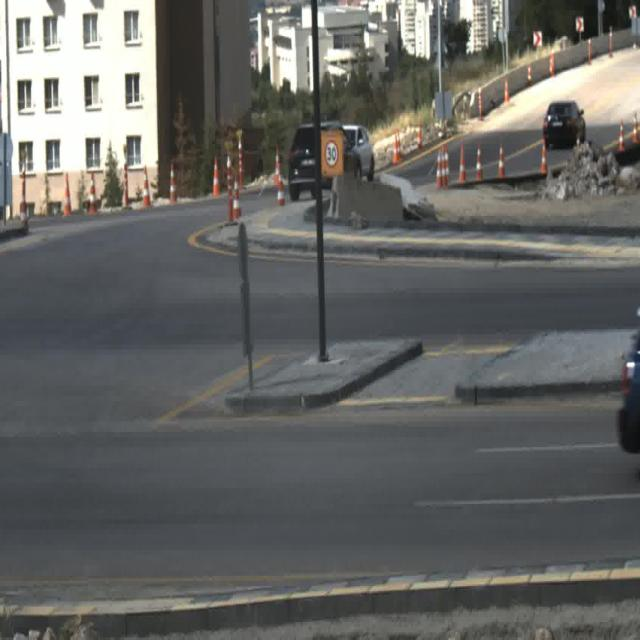Car: (287, 128, 362, 199), (544, 99, 587, 145), (343, 128, 372, 176)
